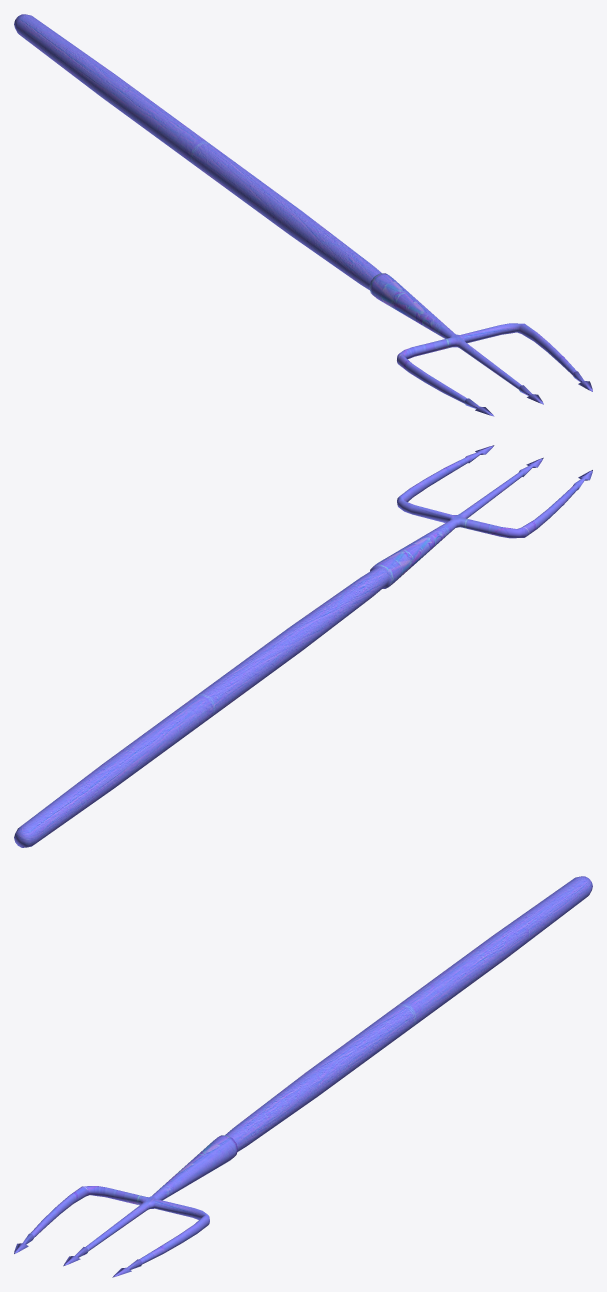
File: Trident.glb
3 renders of one model, top to bottom at view 1: azimuth 30°, elevation 25°; view 2: azimuth 150°, elevation 25°; view 3: azimuth 330°, elevation 25°, orthographic.
Visible parts, largest first — view 1: Trident; view 2: Trident; view 3: Trident.
Boxes of the visible parts, left/top/right/bottom form: Trident: left=14, top=14, right=592, bottom=416; Trident: left=14, top=445, right=592, bottom=847; Trident: left=14, top=876, right=592, bottom=1277.
Size of the model in its own units: 2.2 by 0.3978 by 15.23.
1 material, 1 textured.
